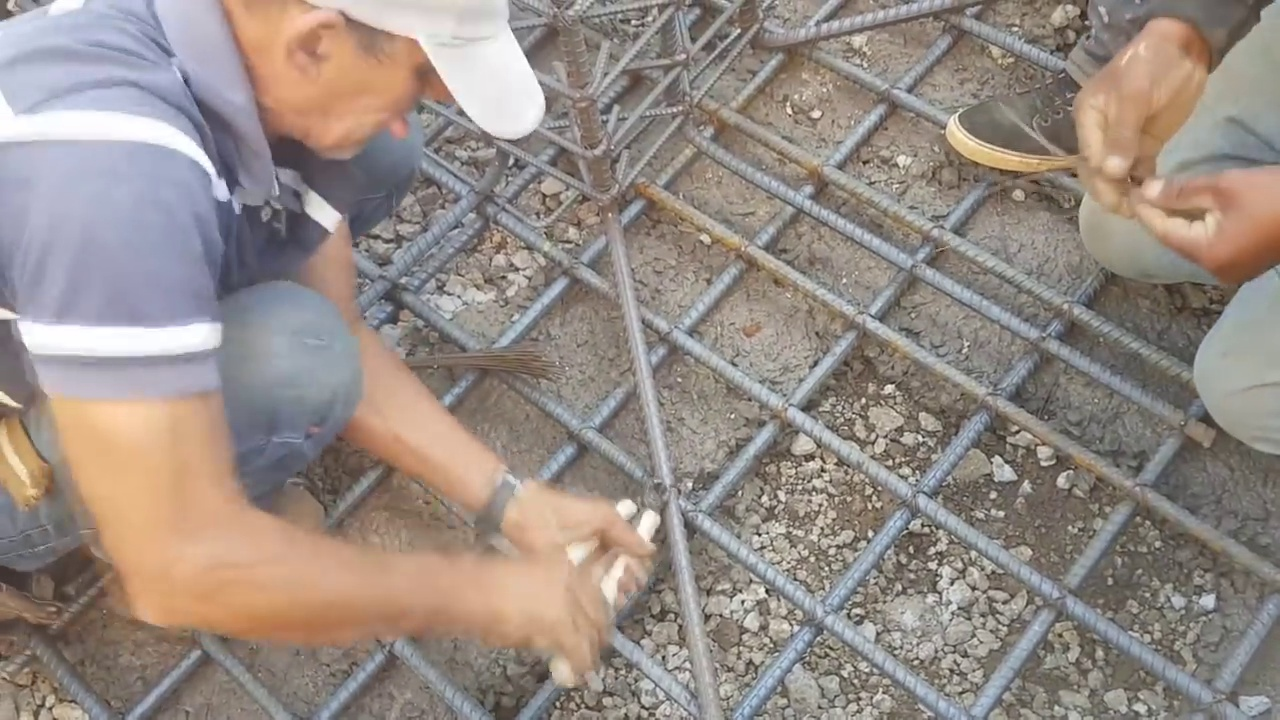helmet-off: (225, 7, 458, 158)
person: (0, 2, 656, 671), (1046, 1, 1280, 441)
